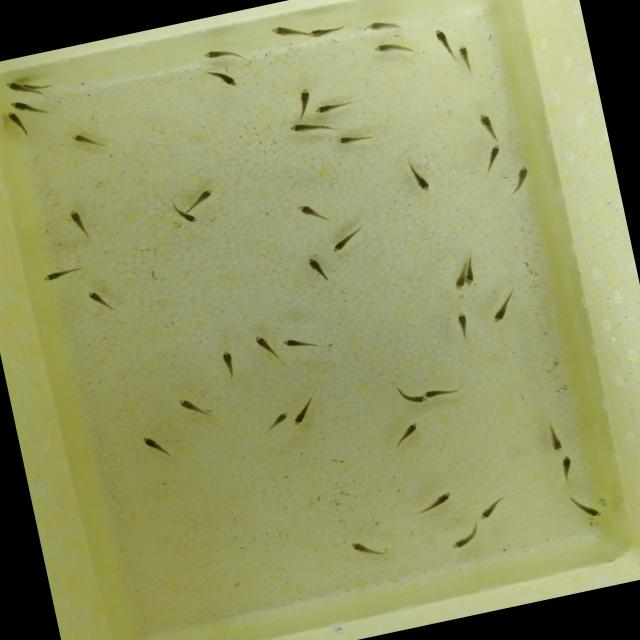fingerling: (411, 380, 458, 404), (58, 202, 92, 235), (170, 391, 208, 418), (358, 14, 397, 39), (304, 250, 334, 282), (36, 264, 82, 284), (446, 260, 471, 294), (575, 495, 605, 523), (287, 115, 325, 137), (368, 36, 407, 57), (284, 406, 314, 433), (424, 488, 459, 511), (444, 530, 484, 550), (408, 170, 436, 198), (214, 345, 243, 372), (188, 182, 218, 208), (264, 20, 299, 42), (393, 416, 428, 438), (199, 44, 235, 64), (294, 198, 324, 222), (489, 294, 513, 324), (344, 532, 371, 558), (542, 426, 567, 454), (293, 83, 317, 112), (66, 128, 100, 148), (311, 97, 345, 117), (474, 108, 500, 134), (82, 284, 109, 309), (432, 23, 454, 53), (280, 332, 310, 354), (472, 500, 505, 520), (136, 431, 164, 454), (482, 140, 508, 164), (248, 330, 276, 352), (454, 308, 472, 342), (510, 160, 535, 184), (177, 205, 202, 229), (5, 96, 38, 114), (328, 232, 357, 252), (2, 106, 28, 128), (0, 77, 30, 96), (455, 39, 474, 67), (266, 407, 294, 426), (216, 70, 240, 91), (459, 262, 480, 286), (308, 24, 339, 40), (558, 452, 576, 478), (403, 388, 426, 408), (336, 132, 364, 148)
